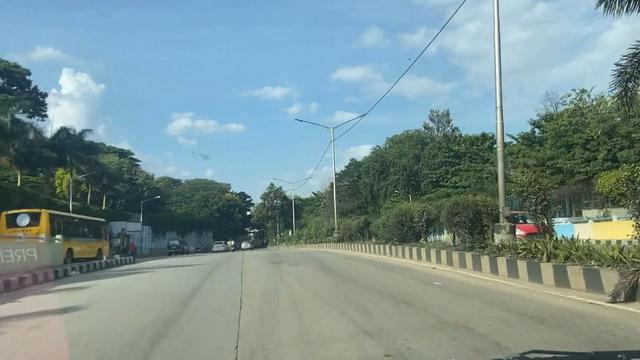RoadDamages: (233, 249, 248, 360)
